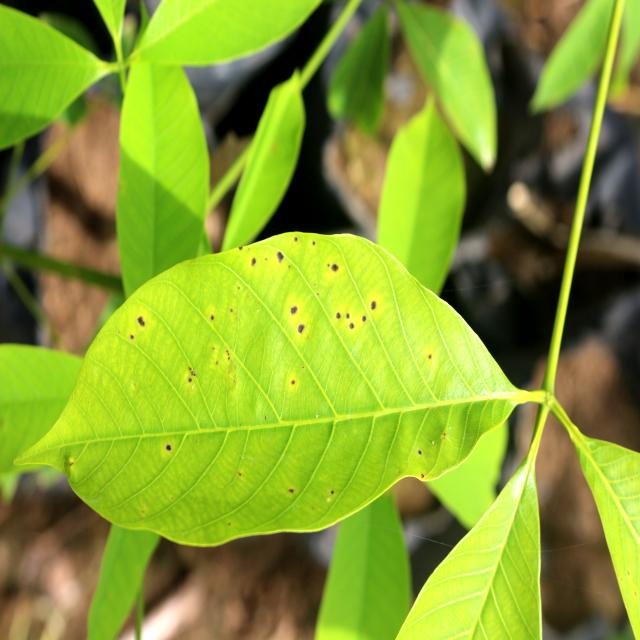Colletotrichum: (370, 300, 376, 310), (298, 324, 304, 334), (138, 317, 144, 326), (331, 264, 338, 271), (278, 252, 284, 260), (290, 307, 296, 314), (166, 445, 172, 451), (251, 258, 256, 265), (336, 312, 340, 319), (350, 323, 354, 329), (362, 316, 366, 321)
